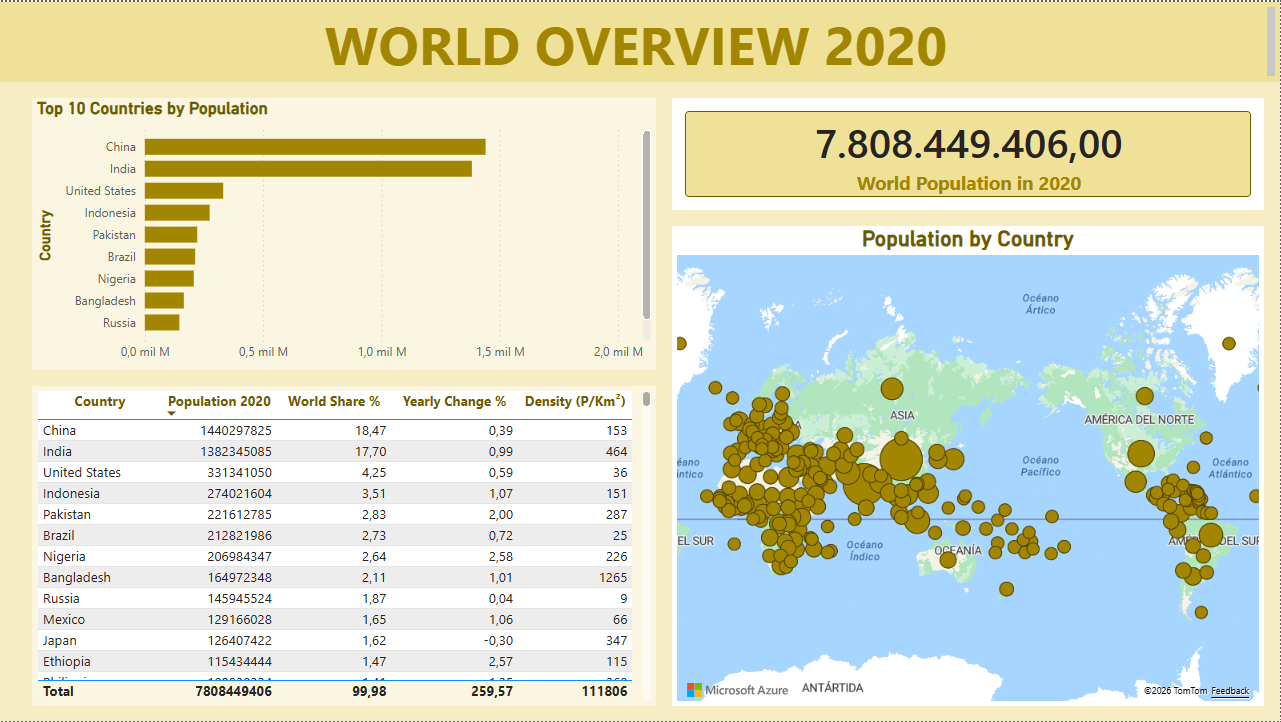

This screenshot's page, from the dashboard's own definition file:
{"tool":"powerbi","page":{"name":"Wordl_Overview","canvas":[1280,720],"ordinal":0},"visuals":[{"type":"textbox","box":[0,0,1280,80],"z":0},{"type":"clusteredBarChart","title":"Top 10 Countries by Population","fields":{"Category":["population_by_country_2020.Country"],"Y":["Sum(population_by_country_2020.Population_2020)"]},"box":[32,96,624,272],"z":1000},{"type":"cardVisual","fields":{"Data":["Sum(population_by_country_2020.Population_2020)"]},"box":[672,96,592,112],"z":2000},{"type":"azureMap","title":"Population by Country","fields":{"Category":["population_by_country_2020.Country"],"Size":["Sum(population_by_country_2020.Population_2020)"]},"box":[672,224,592,480],"z":3000},{"type":"tableEx","fields":{"Values":["population_by_country_2020.Country","Sum(population_by_country_2020.Population_2020)","Sum(population_by_country_2020.WorldShare_pct)","Sum(population_by_country_2020.YearlyChange_pct)","Sum(population_by_country_2020.Density (P/Km²))"]},"box":[32,384,624,320],"z":4000}]}

Visuals, with their boxes in screenshot pixels (x1, y1, x2, y2), scaled from the page's 1280x720 canvas onto the 1281x722 screenshot:
textbox: {"x1": 0, "y1": 0, "x2": 1280, "y2": 80}
"Top 10 Countries by Population" clusteredBarChart: {"x1": 32, "y1": 96, "x2": 657, "y2": 369}
cardVisual - Sum(population_by_country_2020.Population_2020): {"x1": 673, "y1": 96, "x2": 1265, "y2": 209}
"Population by Country" azureMap: {"x1": 673, "y1": 225, "x2": 1265, "y2": 706}
tableEx - population_by_country_2020.Country x Sum(population_by_country_2020.Population_2020): {"x1": 32, "y1": 385, "x2": 657, "y2": 706}
